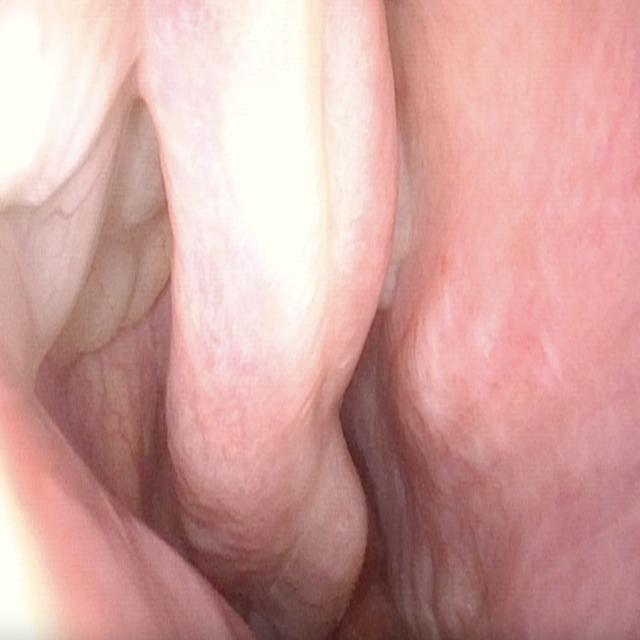OPENING: (31, 41, 215, 579)
POLYPS: (72, 325, 161, 497), (58, 235, 133, 358), (104, 112, 173, 232), (129, 212, 182, 321), (369, 248, 408, 326), (393, 135, 416, 256)
